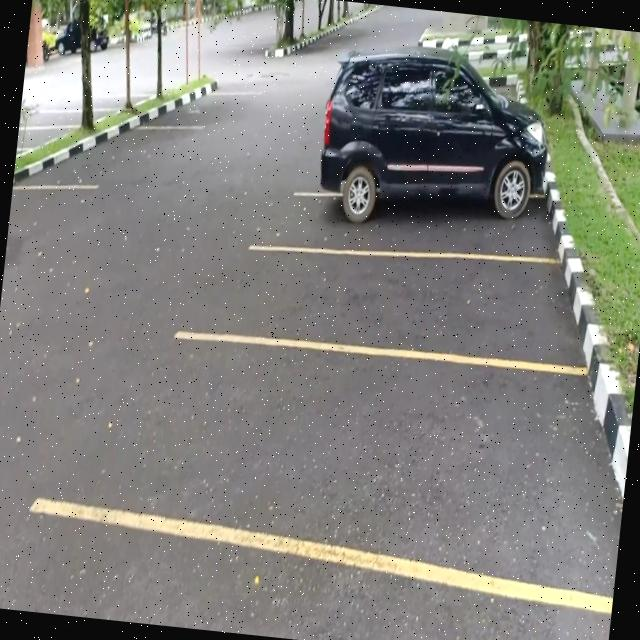empty: (153, 330, 627, 606), (237, 239, 593, 377), (86, 118, 194, 200)
occupied: (297, 118, 552, 274)
